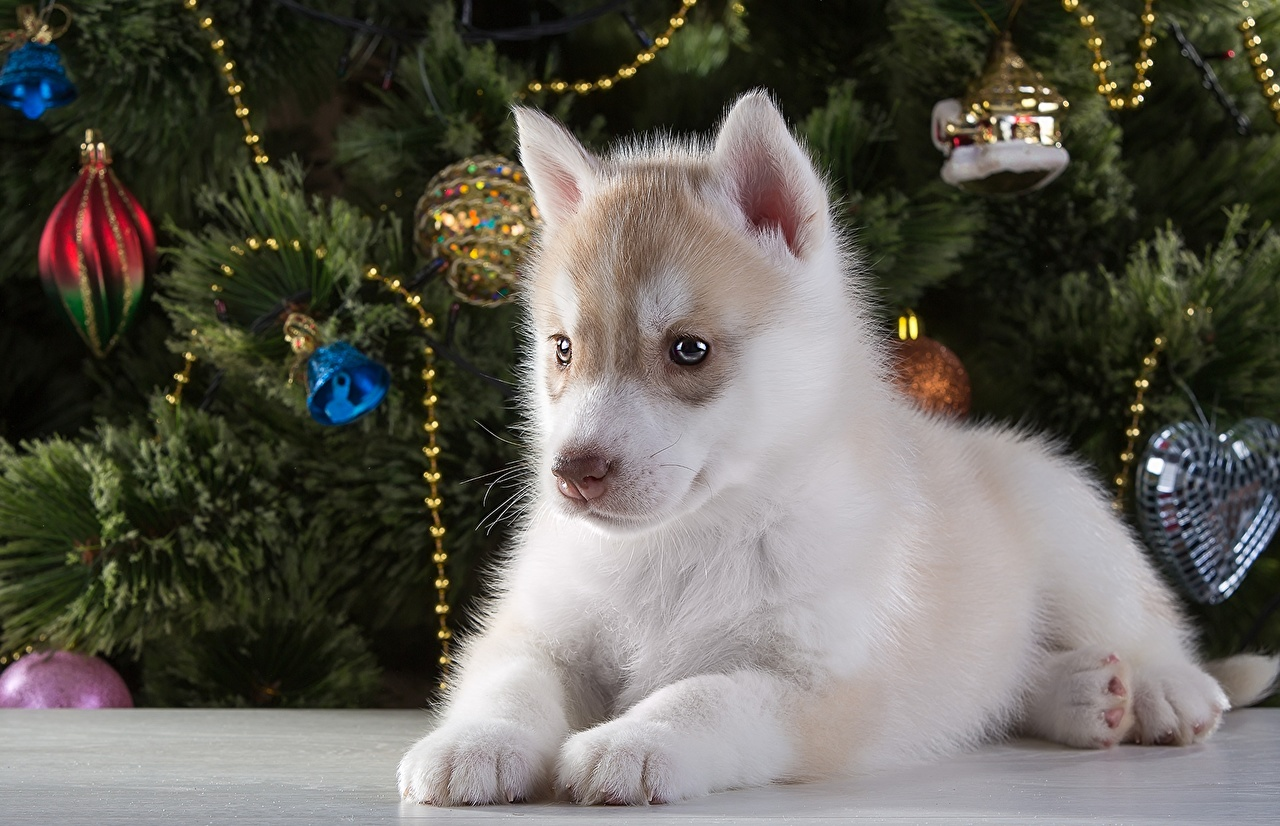husky: (471, 67, 875, 576)
